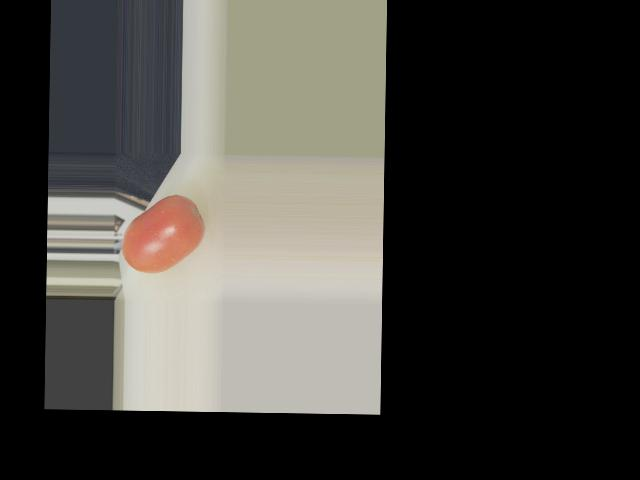tomato: (121, 194, 205, 274)
